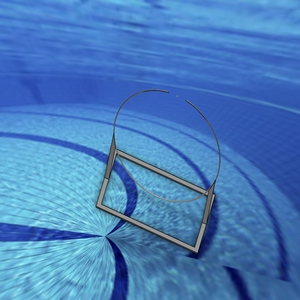circle: (95, 85, 222, 253)
